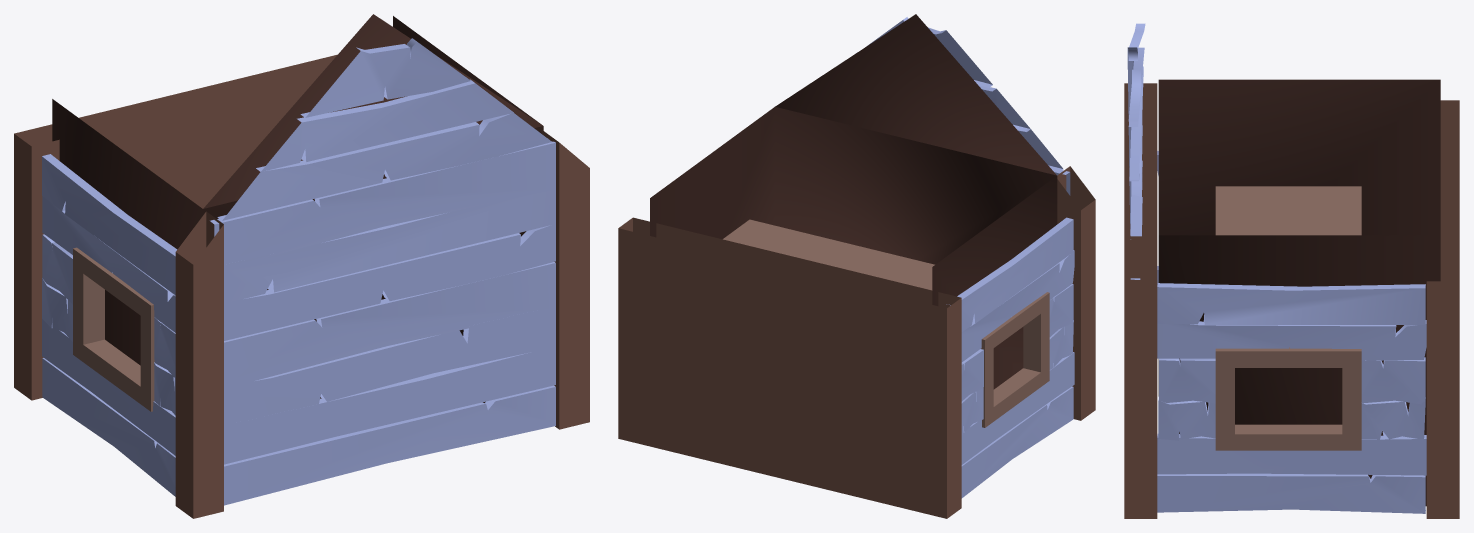
Rendered from Building_Wall_001.glb.
The picture shows the model from 3 angles, left to right: view 1: azimuth 30°, elevation 25°; view 2: azimuth 150°, elevation 25°; view 3: azimuth 270°, elevation 25°; orthographic projection. The views are drawn at different scales.
Visible parts, largest first — view 1: Building_Wall_001; view 2: Building_Wall_001; view 3: Building_Wall_001.
Part boxes in pixels (x1,y1,x2,y2): Building_Wall_001: (14,14,589,518); Building_Wall_001: (618,14,1095,518); Building_Wall_001: (1124,23,1459,518).
Bounding box in the file's own units: 7.12 × 7.61 × 5.58.
1 material, 1 textured.
